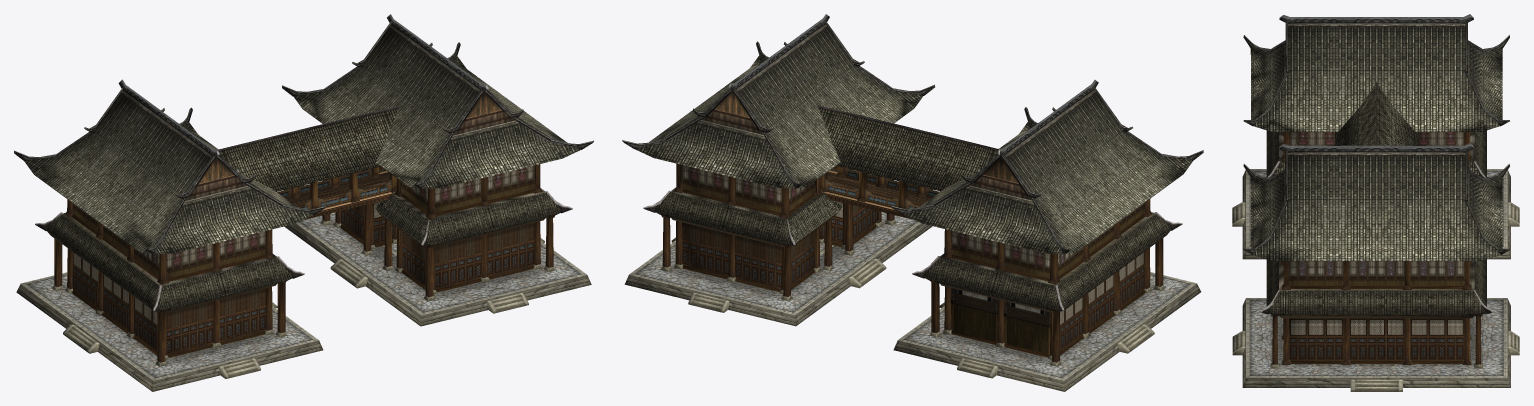
The model's file is b1-009-hotel_lod_01.fbx.
3 renders of one model, left to right at view 1: azimuth 30°, elevation 25°; view 2: azimuth 150°, elevation 25°; view 3: azimuth 270°, elevation 25°, orthographic.
Visible parts, largest first — view 1: b1-009-hotel01, b1-009-hotel02, b1-009-hotel03; view 2: b1-009-hotel01, b1-009-hotel03, b1-009-hotel02; view 3: b1-009-hotel01, b1-009-hotel02, b1-009-hotel03.
Boxes of the visible parts, bbox=[...] form: b1-009-hotel01: bbox=[14, 14, 593, 254]; b1-009-hotel02: bbox=[35, 105, 572, 354]; b1-009-hotel03: bbox=[16, 164, 591, 391]; b1-009-hotel01: bbox=[622, 14, 1203, 253]; b1-009-hotel03: bbox=[624, 163, 1200, 391]; b1-009-hotel02: bbox=[643, 104, 1182, 351]; b1-009-hotel01: bbox=[1243, 14, 1509, 260]; b1-009-hotel02: bbox=[1259, 82, 1493, 360]; b1-009-hotel03: bbox=[1232, 132, 1519, 391].
Size of the model in its own units: 35.89 by 15.6 by 19.9.
